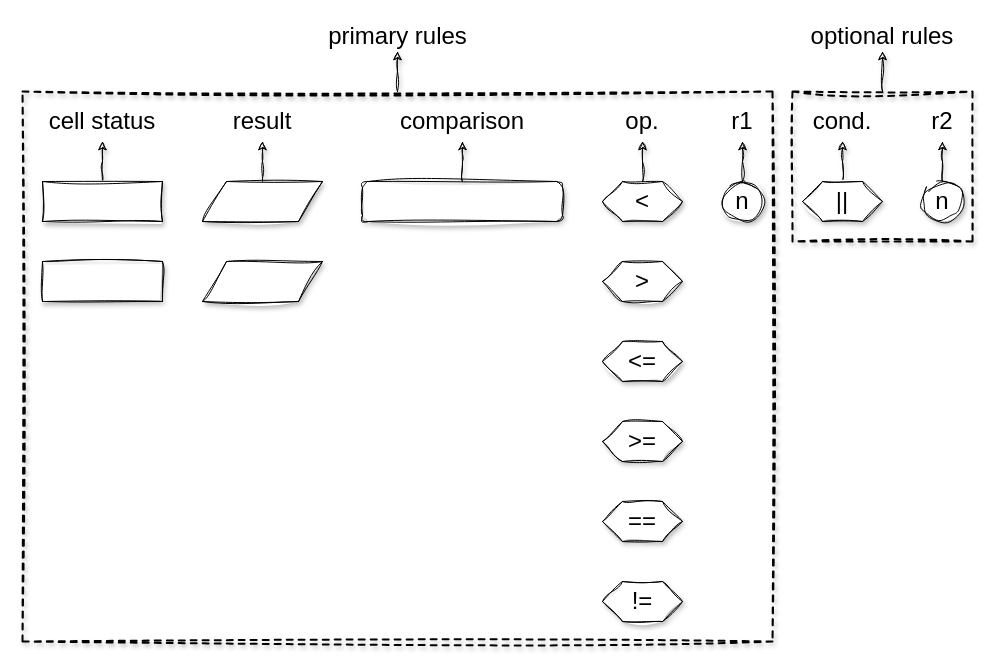
Image size: 996x666. Some labels were removed from this diagram. The shapes that lost their labels are listed below. From the top down, each one's centre as x and y in pixels, then its label:
(103,202): live cell
(263,202): dies
(463,202): live neighbours
(103,282): dead cell
(263,282): lives
